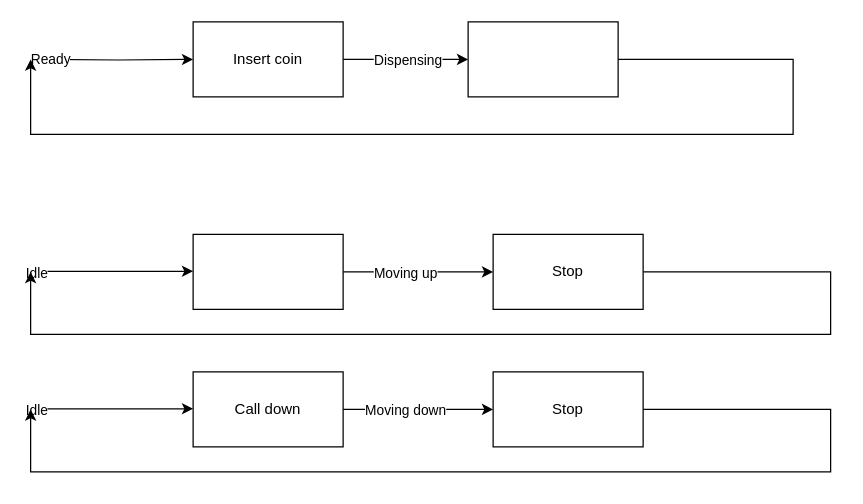
The diagram is 863 pixels wide and 504 high, and some of its shapes have lost their labels. Here are the shapes that lost their labels. From the top down, the box of each, then its label:
(467, 21, 618, 97): Select coin
(192, 233, 343, 309): Call up
